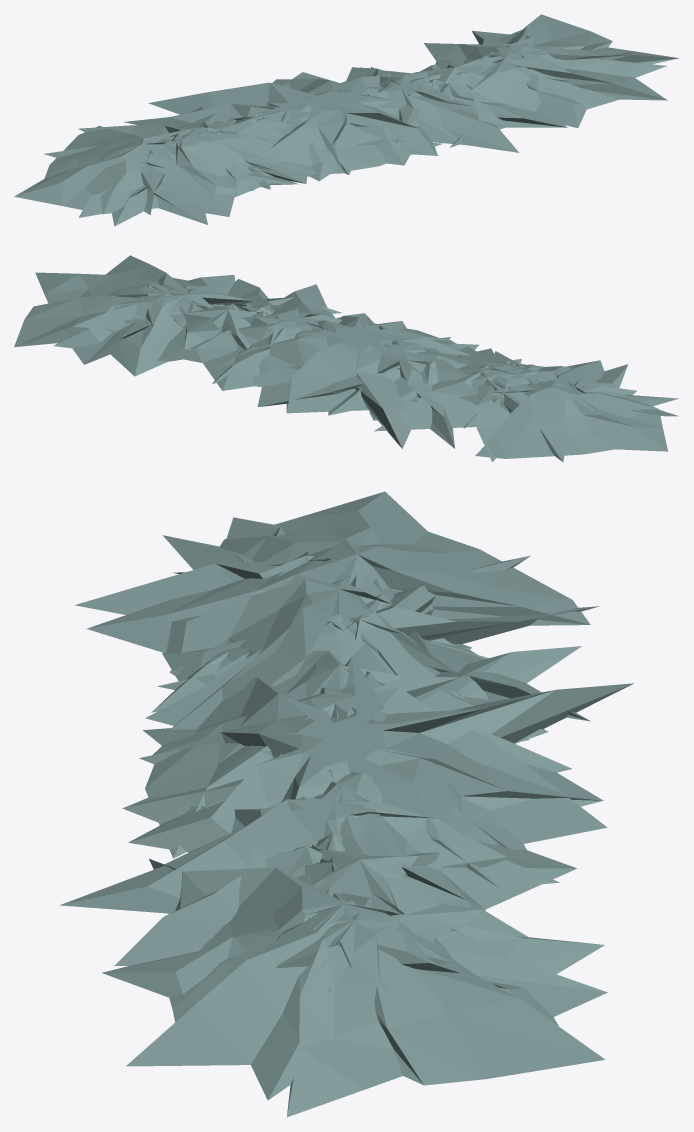
File: range_canyon_near.glb
3 views of the same model, one above another, from view 1: azimuth 30°, elevation 25°; view 2: azimuth 150°, elevation 25°; view 3: azimuth 270°, elevation 25° (orthographic). The views are drawn at different scales.
Visible parts, largest first — view 1: land; view 2: land; view 3: land.
Part boxes in pixels (box(x1,y1,x2,y2)): land: box(14, 14, 678, 226); land: box(14, 255, 678, 462); land: box(60, 491, 633, 1117).
Size of the model in its own units: 871 by 36.34 by 338.
